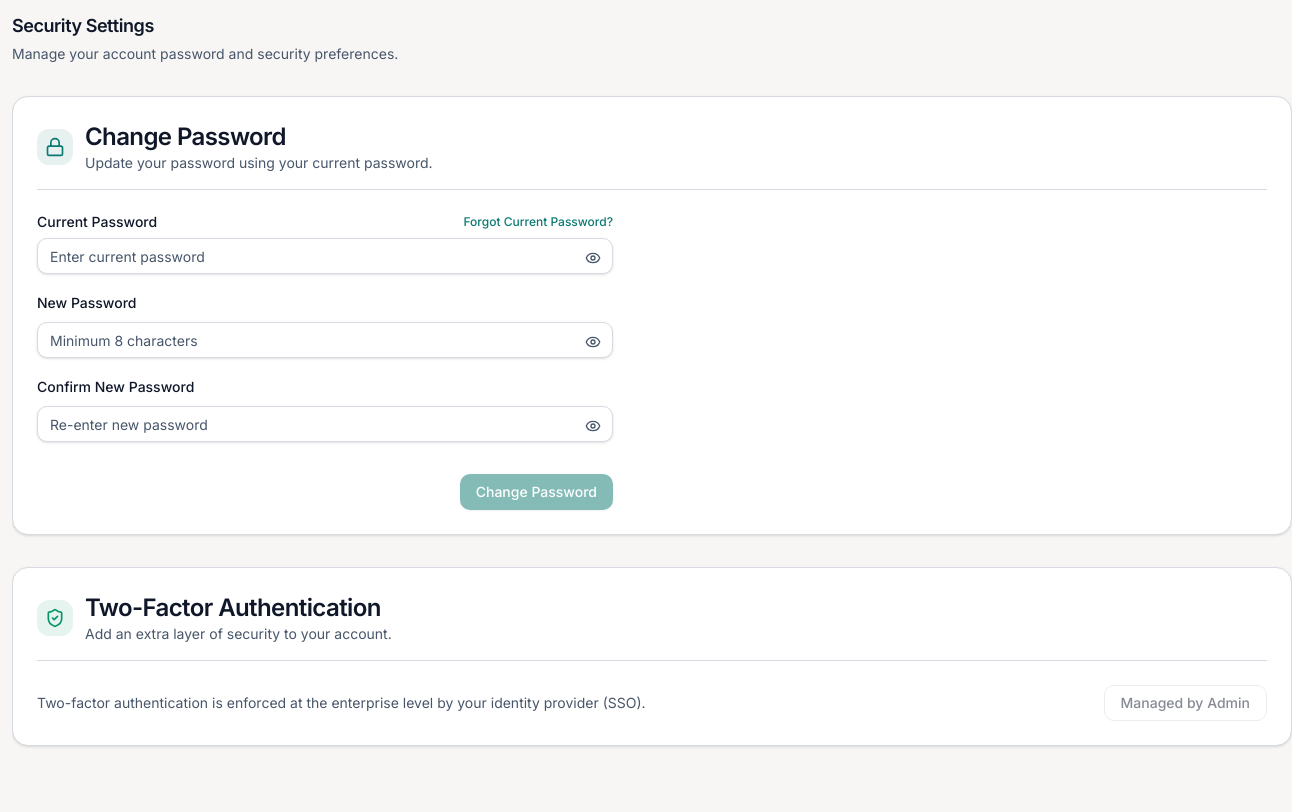
Test: Security Settings: Dual-Path In-Place Password Change (Phase 4) › Path B — User Does Not Know Current Password › 8, 9. "Forgot Current Password?" switches to Path B and Current Password field is absent
Click the button "Forgot Current Password?".
click(538, 222)  # box [463,214,613,230]
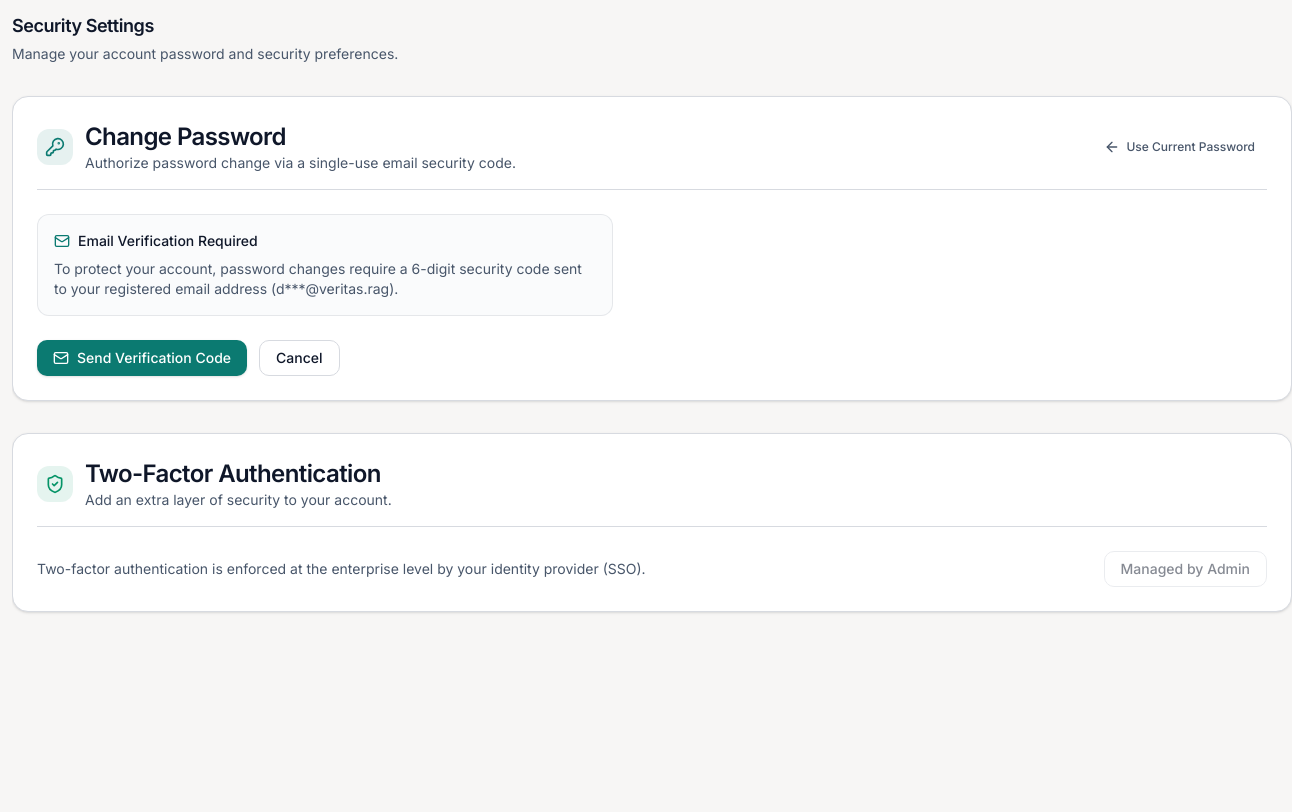
Expected: the text "Authorize password change via a single-use email security code" is shown, [85,154,516,171]
Expected: the text "Email Verification Required" is shown, [78,231,258,251]
Expected: the button "Send Verification Code" is shown, [37,340,247,376]
